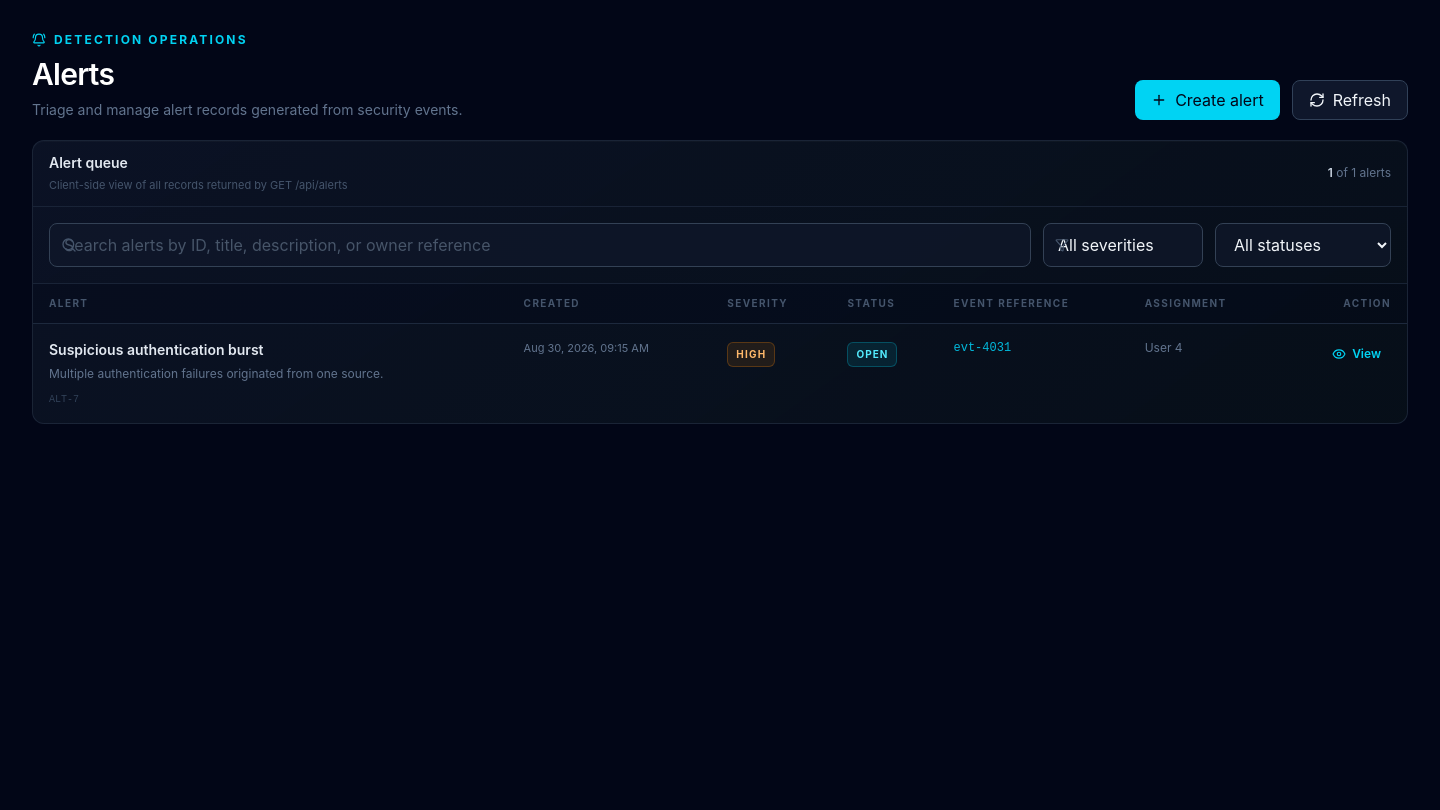
AlertsPage › shows a failed alert mutation
This screenshot has width=1440, height=810.
Click the button with aria-label "Open alert 7".
click(156, 349)  # box [33,323,1407,422]
(page scrolled)
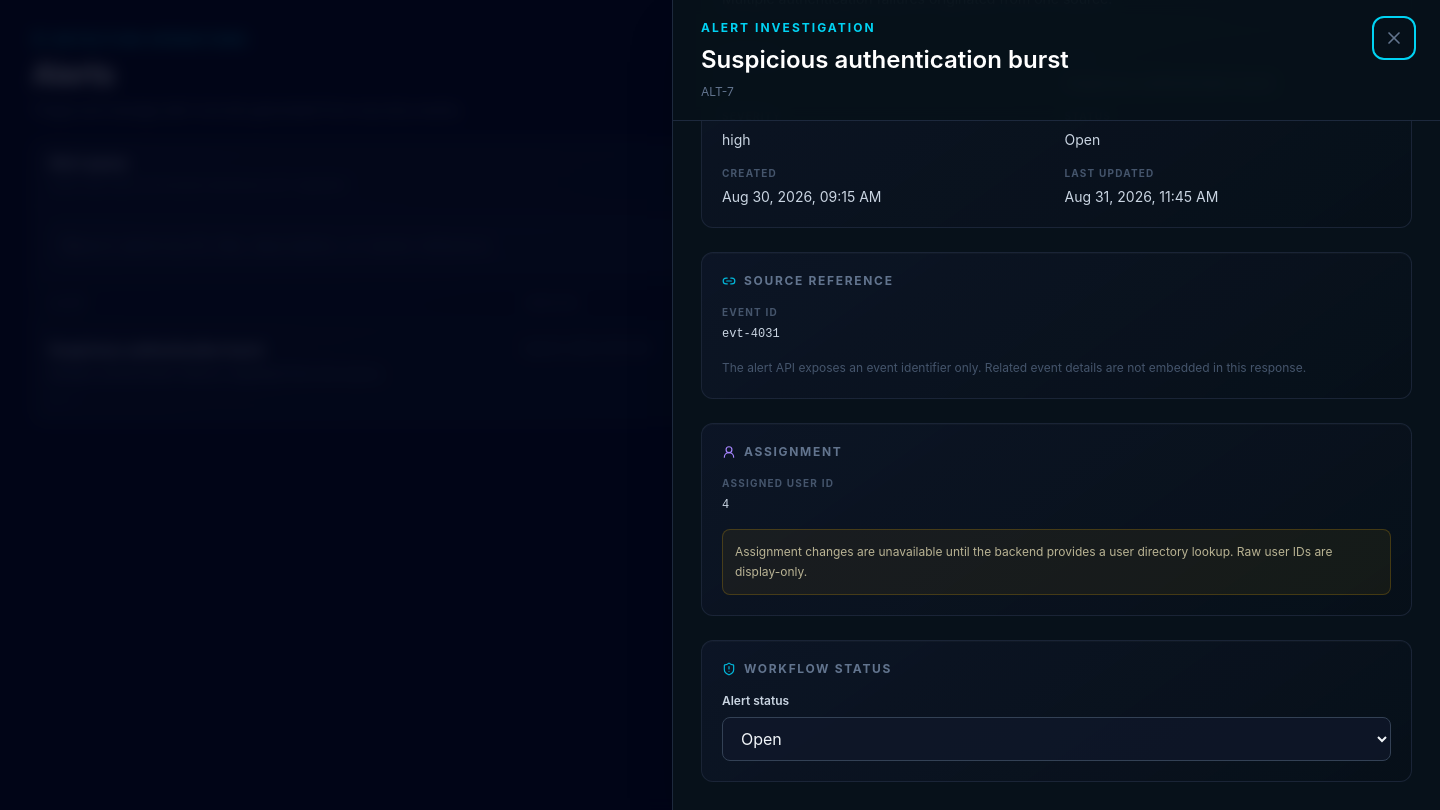
Select "Closed" in the dropdown labelled "Alert status" at (1056, 739), box [722,717,1391,761]
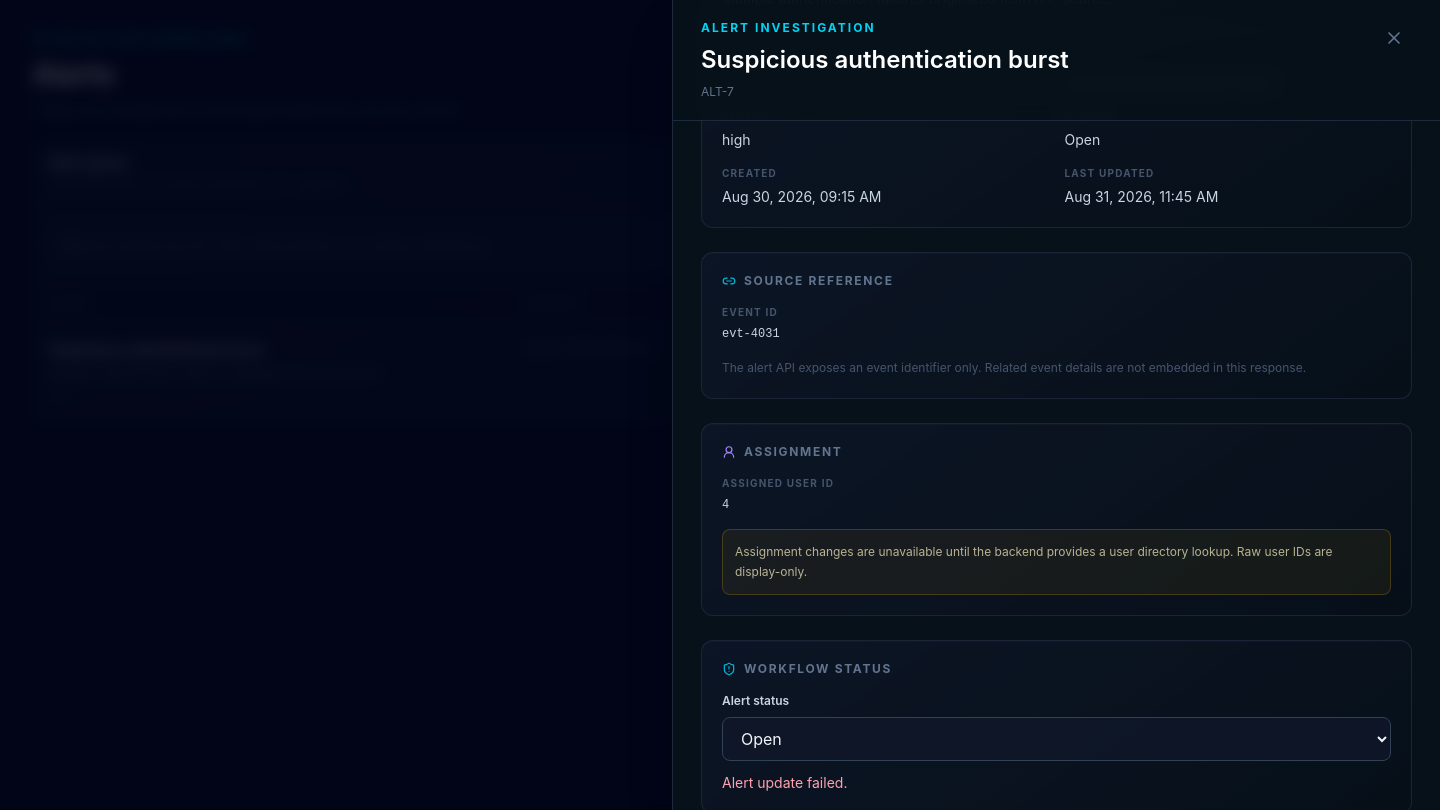
Check: the message reads "Alert update failed.", box [722,774,847,791]
